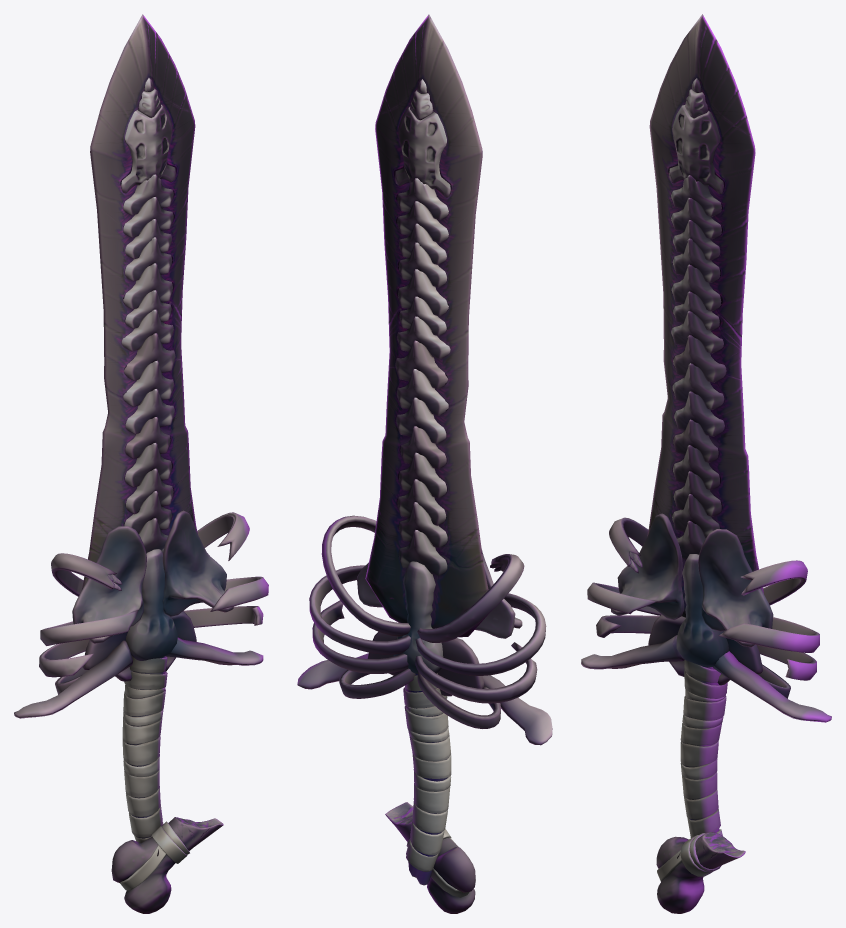
Rendered from sm_sword_209.gltf.
3 renders of one model, left to right at view 1: azimuth 30°, elevation 25°; view 2: azimuth 150°, elevation 25°; view 3: azimuth 330°, elevation 25°, orthographic. The views are drawn at different scales.
Visible parts, largest first — view 1: sm_sword_209; view 2: sm_sword_209; view 3: sm_sword_209.
Part boxes in pixels (<box>): sm_sword_209: <box>14,14,268,913</box>; sm_sword_209: <box>297,14,552,913</box>; sm_sword_209: <box>581,14,831,913</box>.
Bounding box in the file's own units: 0.4274 × 1.48 × 0.1666.
Materials: 1 (1 with a texture image).
